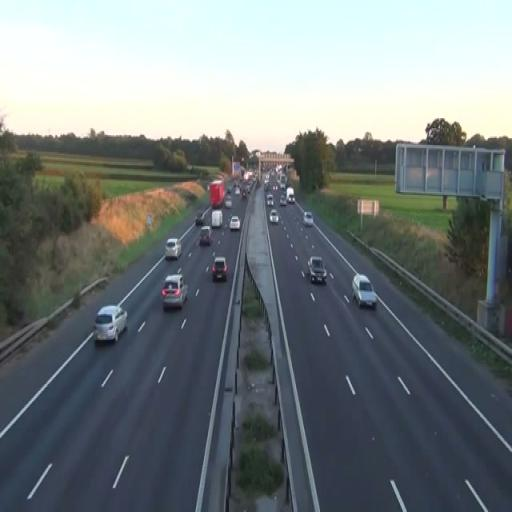Car: (94, 304, 128, 344), (161, 274, 188, 311), (352, 273, 377, 309), (308, 256, 326, 284), (212, 257, 228, 282), (165, 238, 182, 261), (199, 226, 212, 246), (230, 215, 240, 232), (303, 211, 313, 227), (270, 208, 278, 224)
